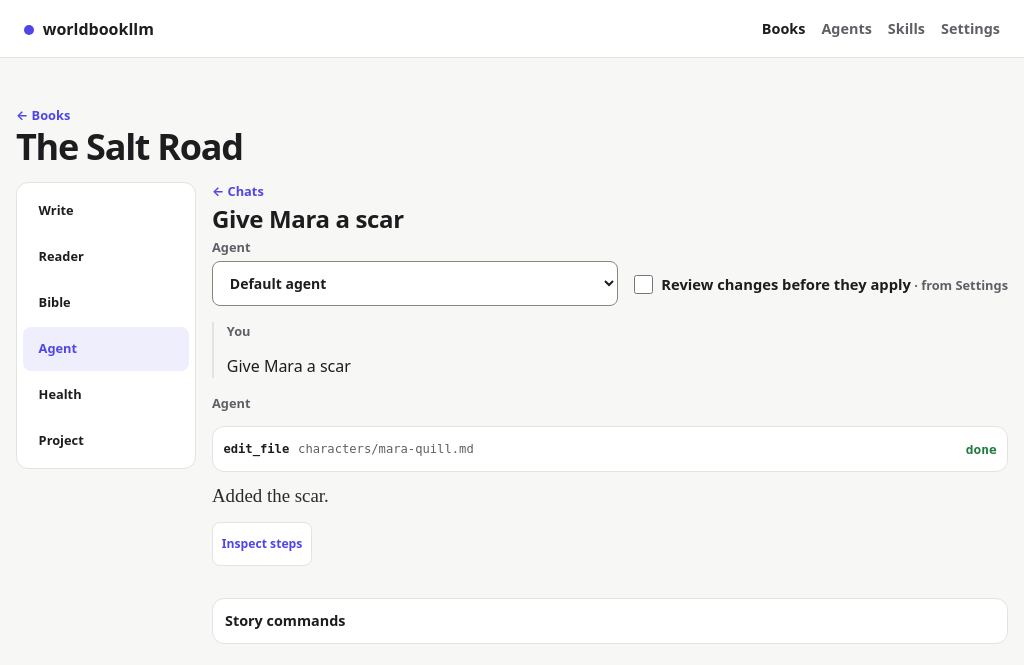
Test: agent tab › shows the recorded steps in the inspector
Click the button "Inspect steps" at (262, 544), box left=212, top=522, right=312, bottom=566
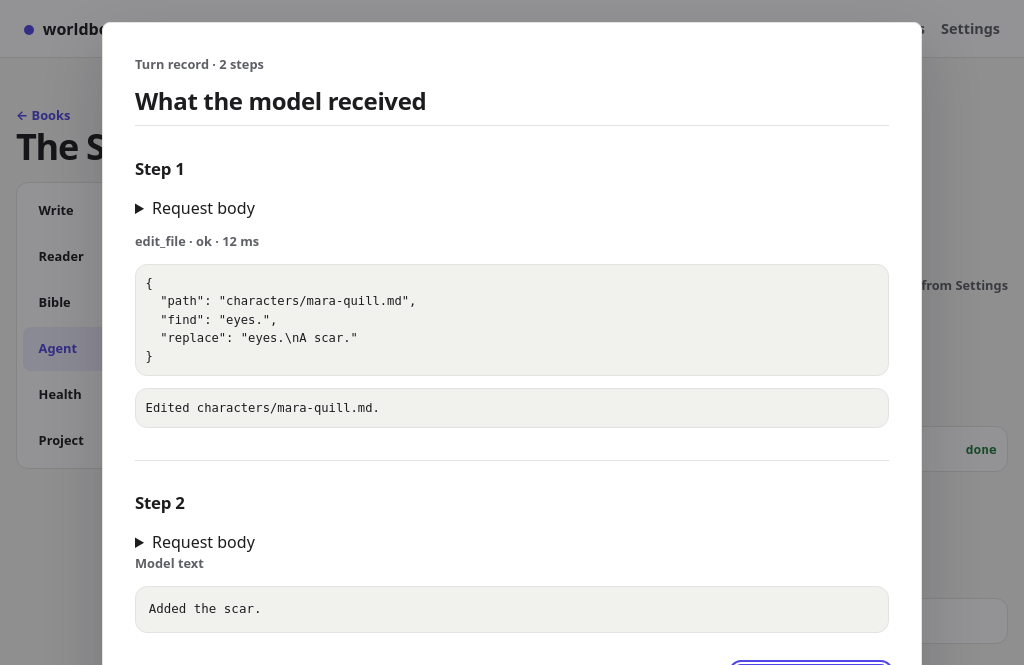
expect the text "edit_file · ok · 12 ms" is shown: met, box left=135, top=232, right=259, bottom=250
